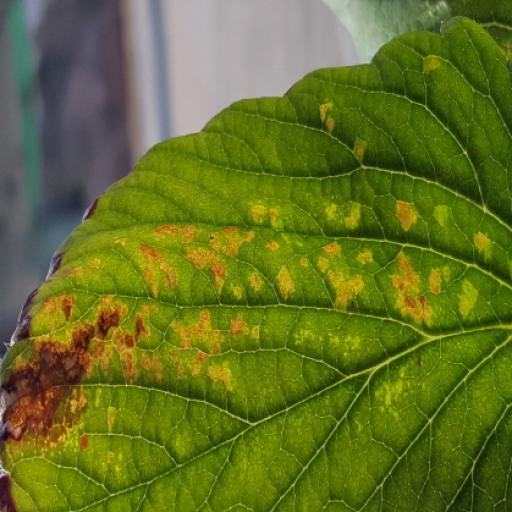Angular Leafspot: (0, 50, 505, 511)
